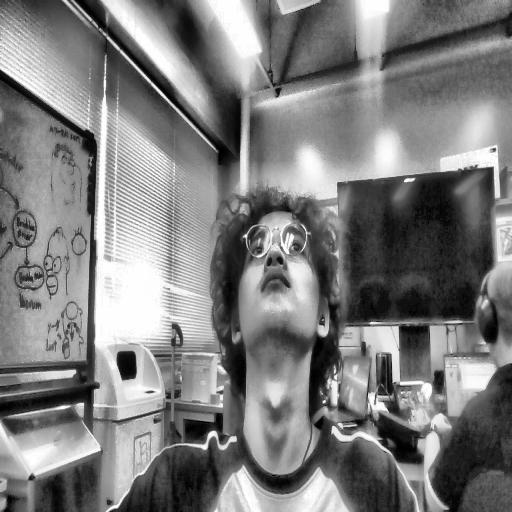Daifuku: (205, 184, 344, 415)
Not Daifuku: (472, 261, 512, 377)
